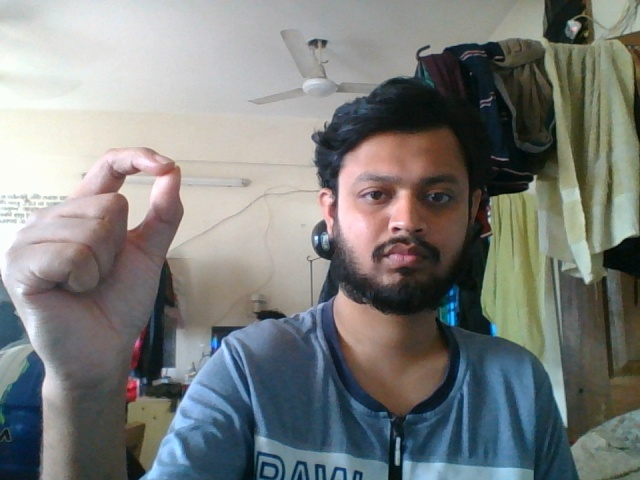gha: (2, 137, 194, 399)
